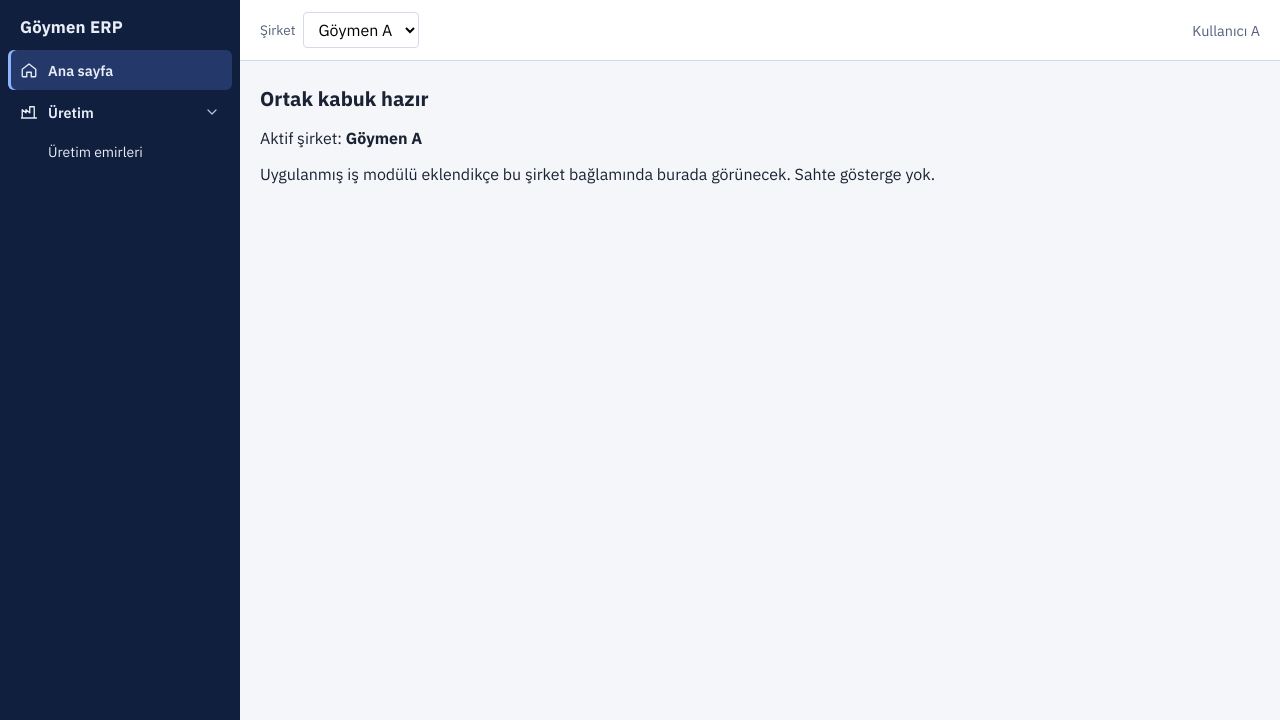
Scenario: MFG-02 is reachable from the sidebar (K5) › renders a nav link to the order list and opens the screen when it is clicked
This screenshot has width=1280, height=720.
Expected: the text "Kullanıcı A" is shown, [1192,20,1260,40]
# …and that following it actually lands on MFG-02 rather than the neutral not-found block.
Click the link "Üretim emirleri": (95, 152) [48,143,143,161]
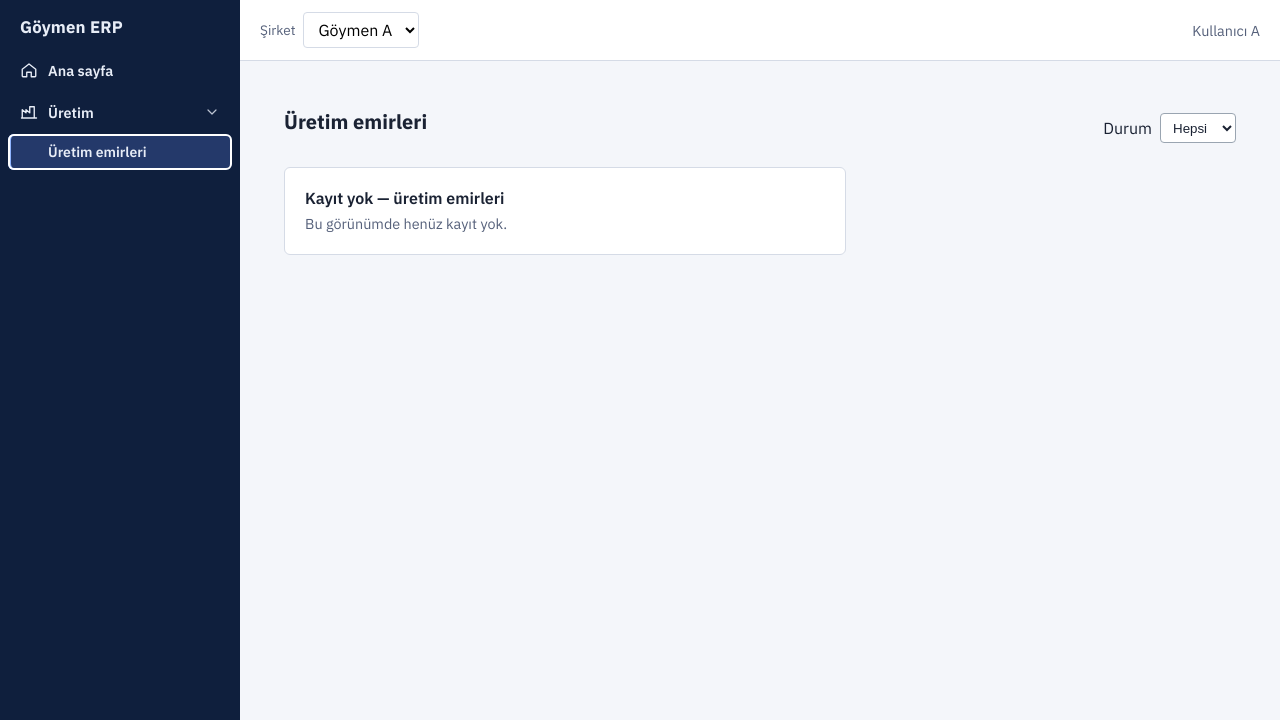
Expected: the heading "Üretim emirleri" is shown, [284,109,427,135]
